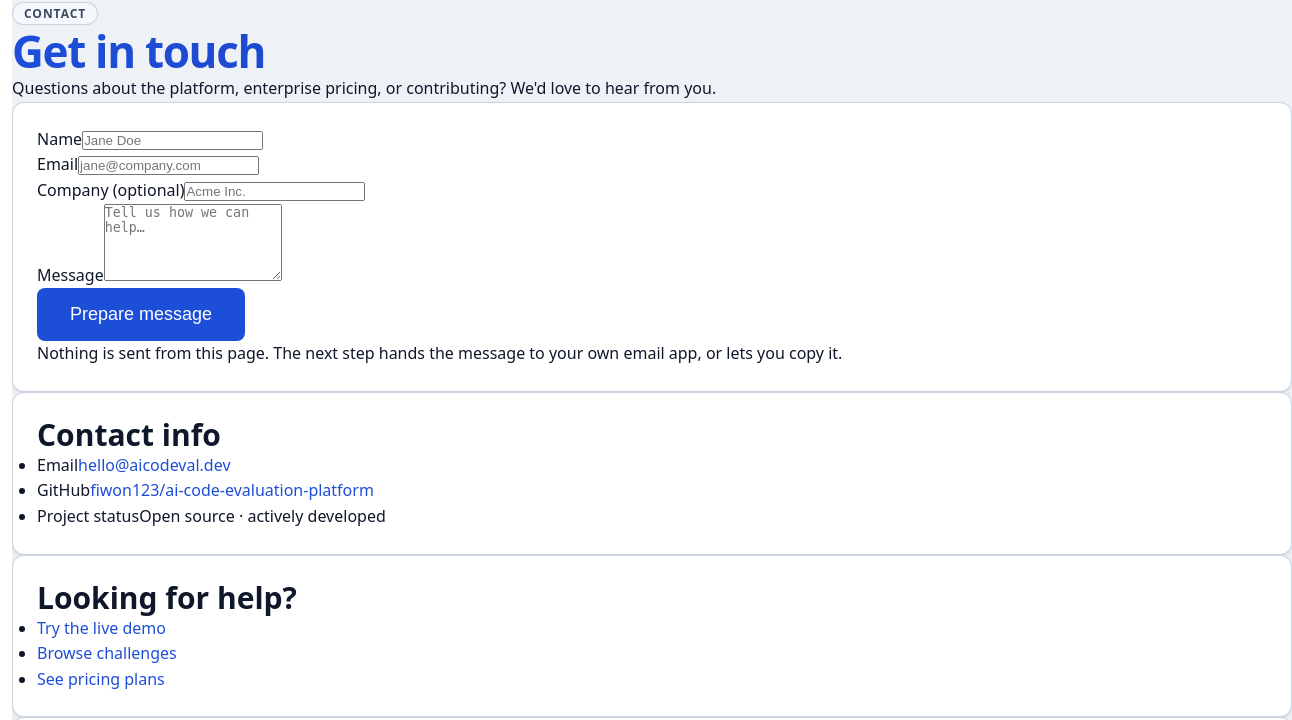
it: Contact › never claims the message was received or that a reply is coming
In the field labelled "Name": (173, 140) [82,131,263,150], type "Jane"
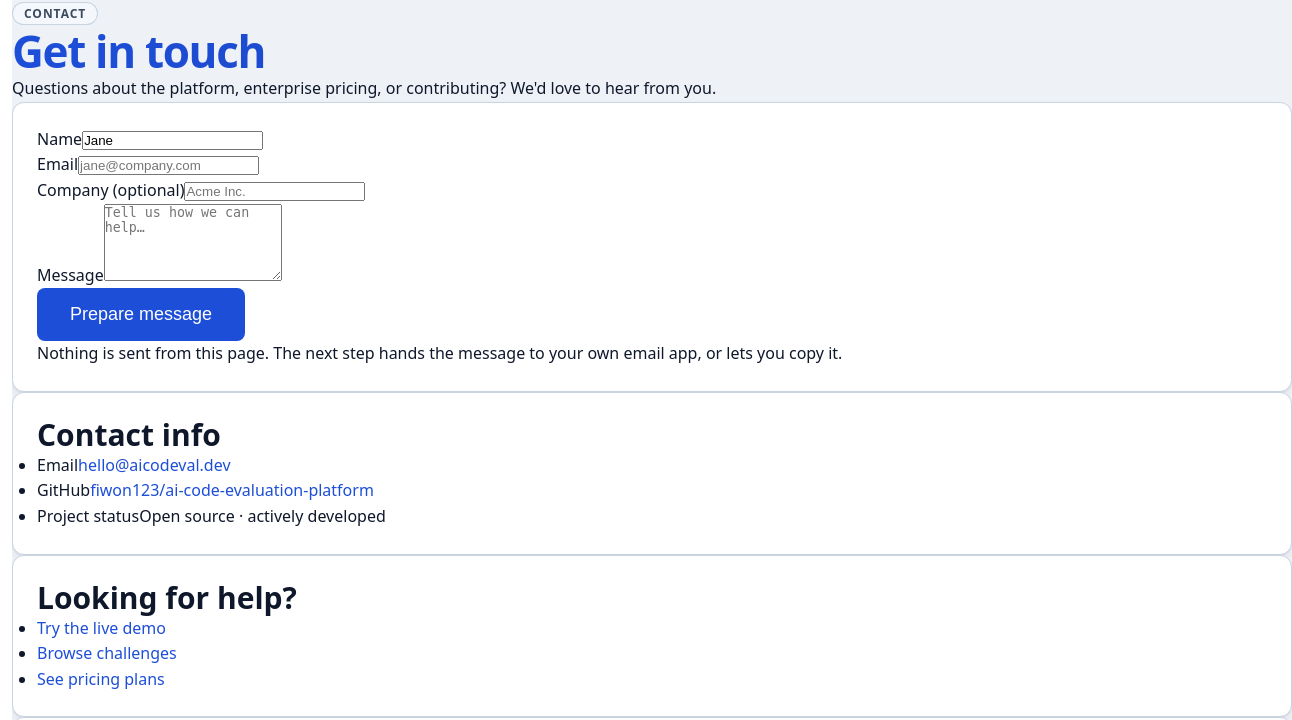
In the field labelled "Email": (169, 166) [78,156,259,175], type "jane@example.com"
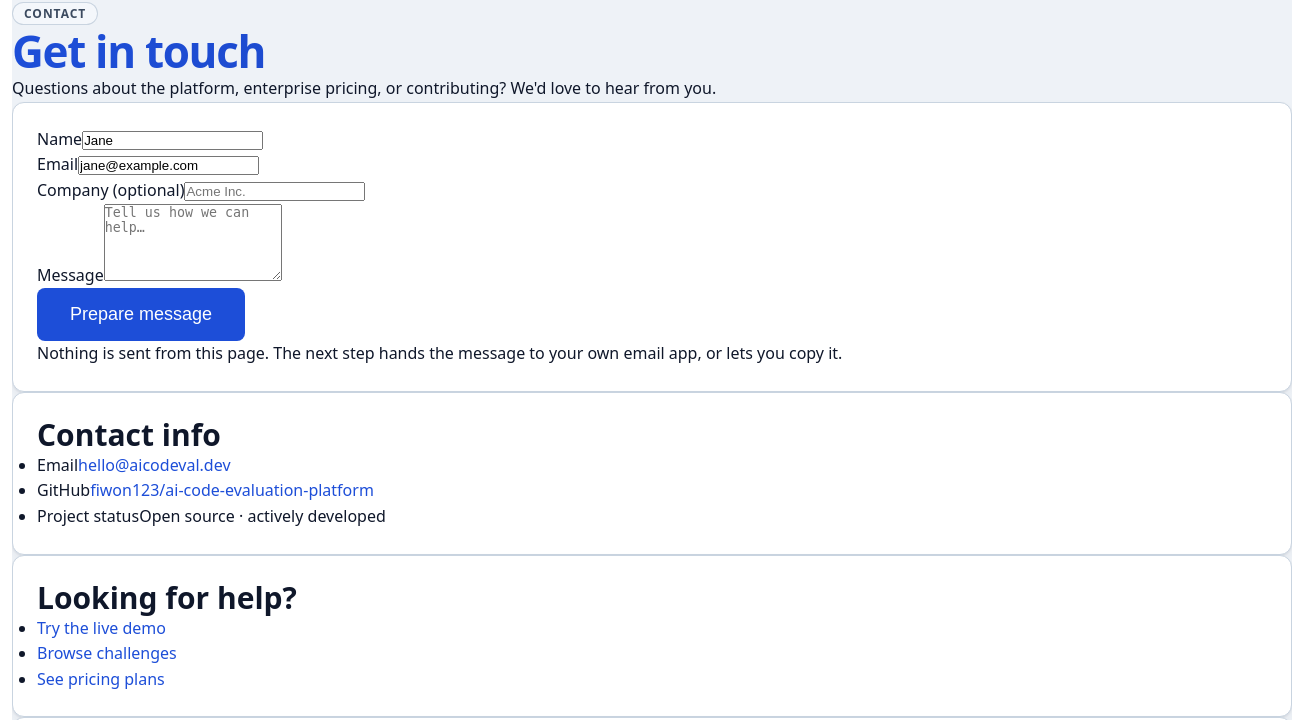
In the field labelled "Company (optional)": (275, 192) [184,182,366,201], type "Acme"
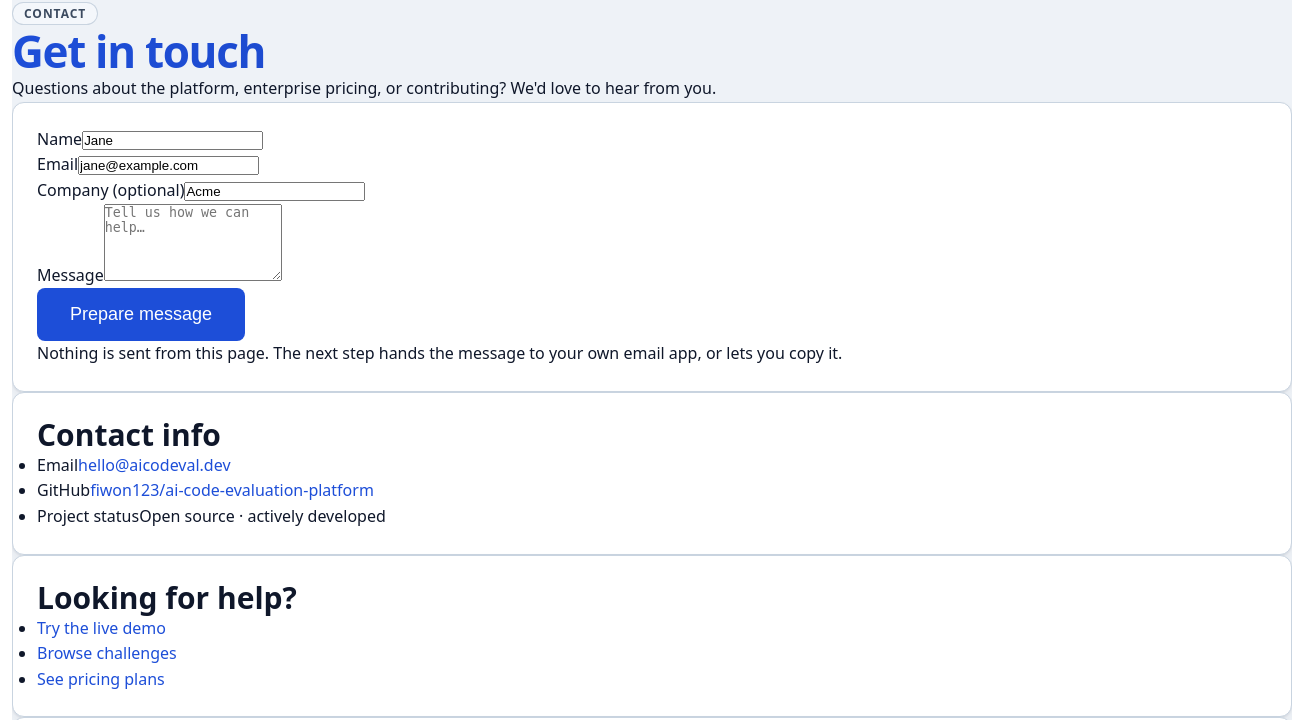
In the text box labelled "Message": (193, 242) [104,204,282,281], type "Hello!"
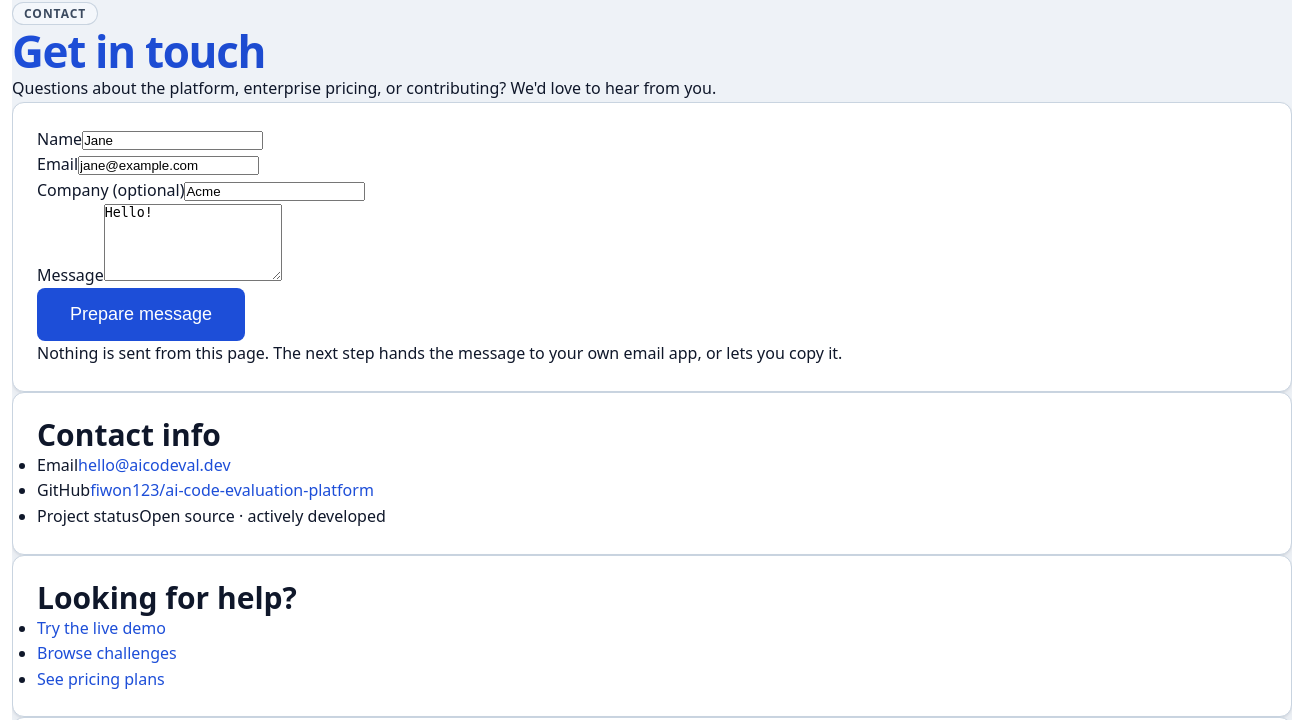
Click the button "Prepare message": click(141, 315) [37,288,245,341]
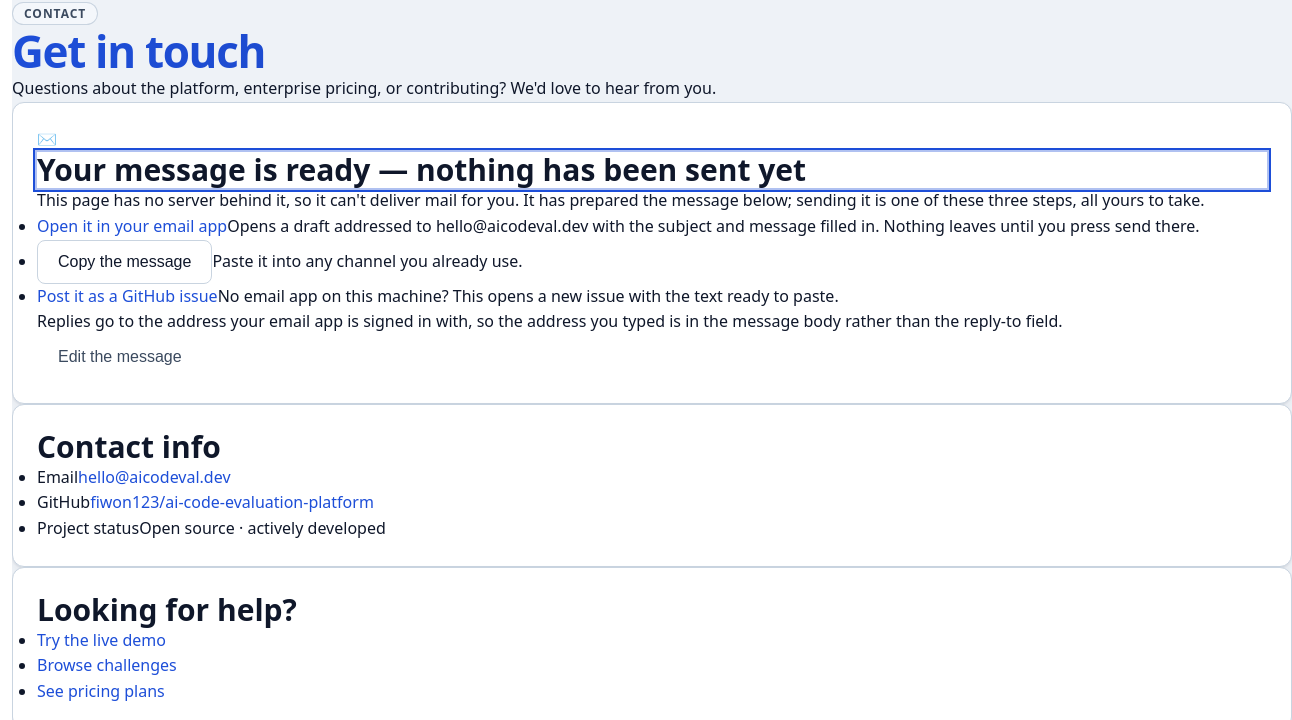
Now the heading "Your message is ready — nothing has been sent yet" is shown, box [37,152,1267,188]
